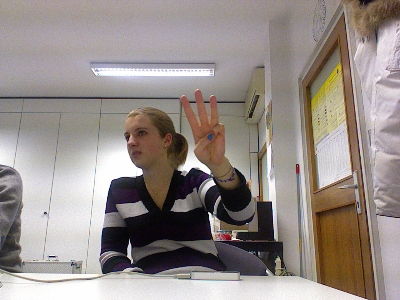三分: (178, 86, 226, 166)
